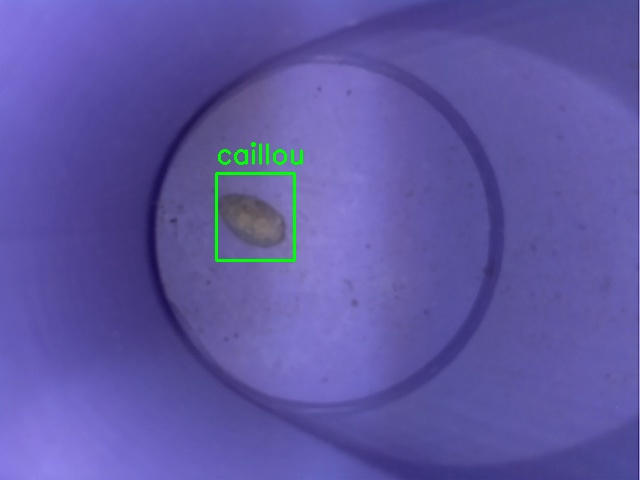caillou: (216, 173, 294, 260)
